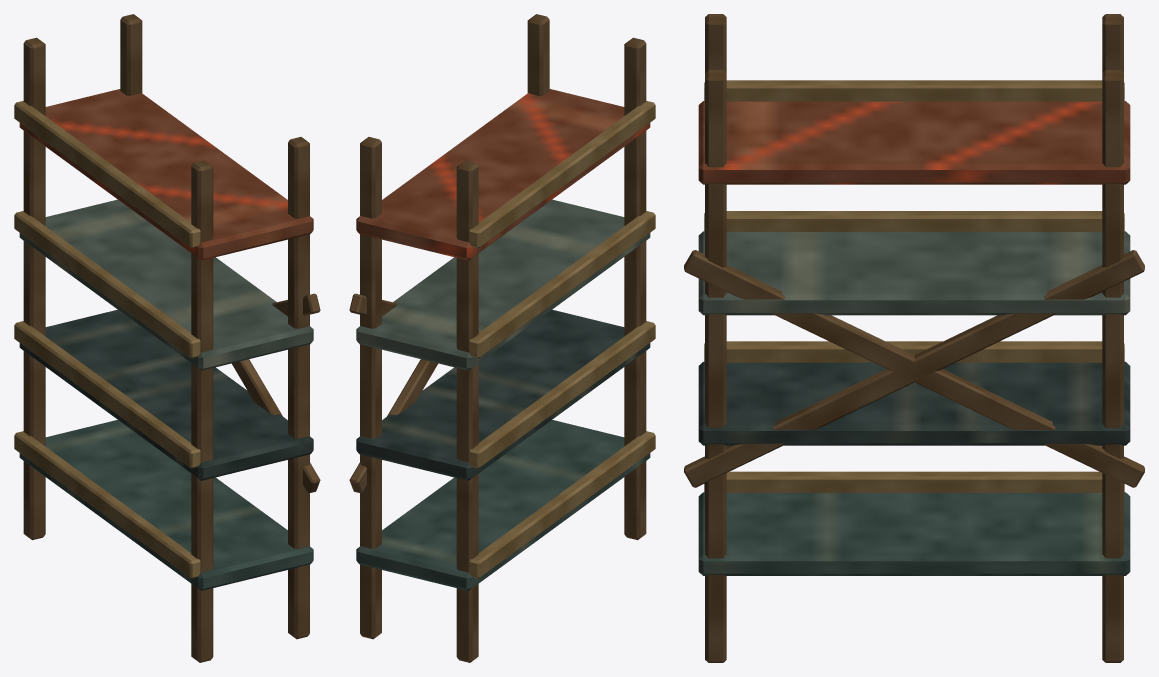
Rendered from SH_POC_ReadyShelf.fbx.
3 renders of one model, left to right at view 1: azimuth 30°, elevation 25°; view 2: azimuth 150°, elevation 25°; view 3: azimuth 270°, elevation 25°, orthographic. The views are drawn at different scales.
Parts seen in each view (by area): view 1: SH_POC_ReadyShelf; view 2: SH_POC_ReadyShelf; view 3: SH_POC_ReadyShelf.
Part boxes in pixels (x1,y1,x2,y2): SH_POC_ReadyShelf: [14, 14, 320, 662]; SH_POC_ReadyShelf: [349, 14, 655, 662]; SH_POC_ReadyShelf: [684, 14, 1144, 662].
Bounding box in the file's own units: 0.5825 × 2.25 × 1.6.
1 material, 1 textured.
